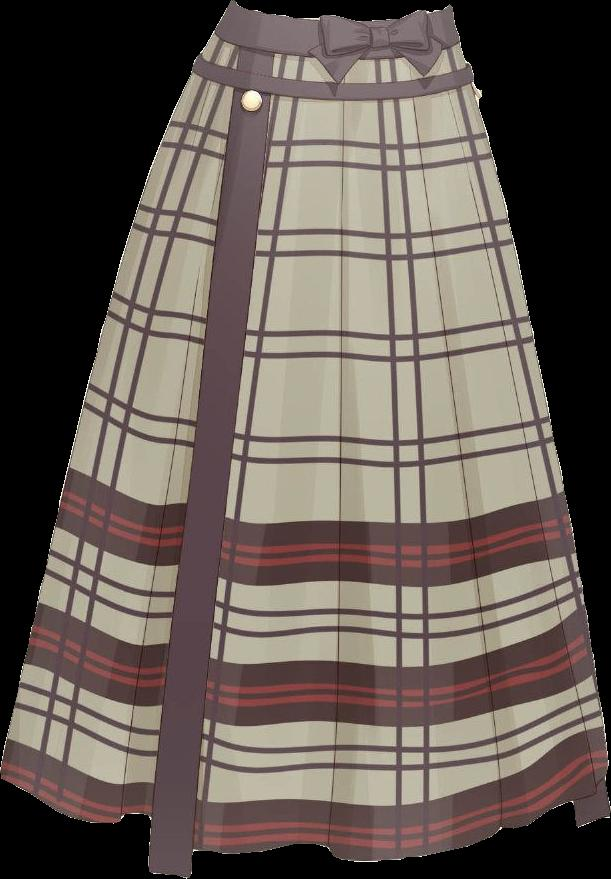Hemline: (0, 769, 610, 878)
Waistline: (209, 30, 466, 64), (227, 0, 456, 27)
